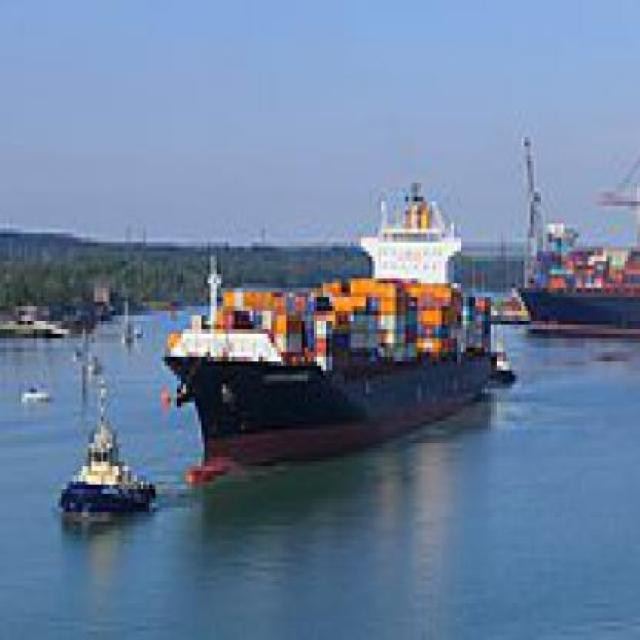container: (154, 166, 523, 495)
